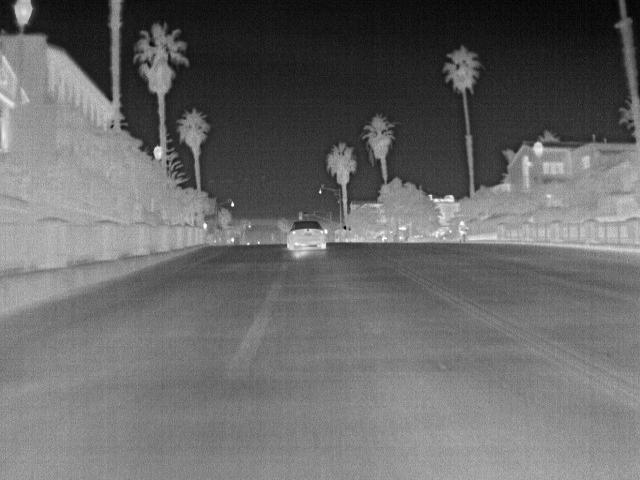car: (285, 218, 328, 252)
person: (456, 220, 470, 242)
